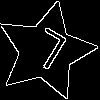L: (21, 26, 70, 80)
